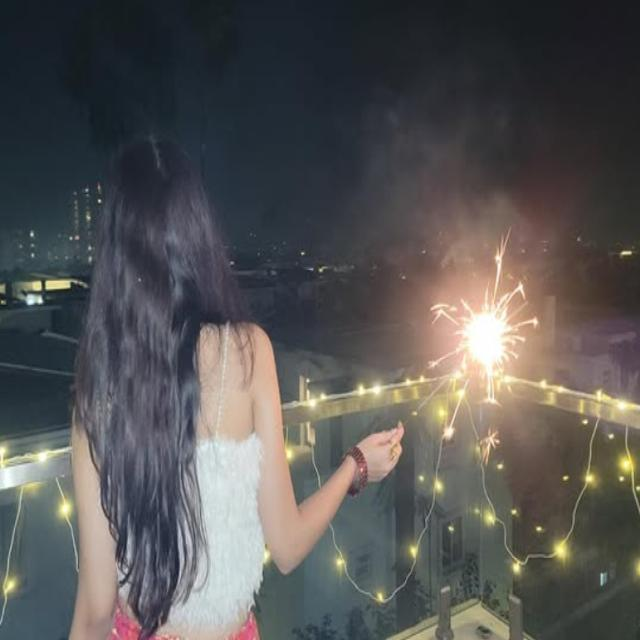fire: (418, 226, 537, 465)
